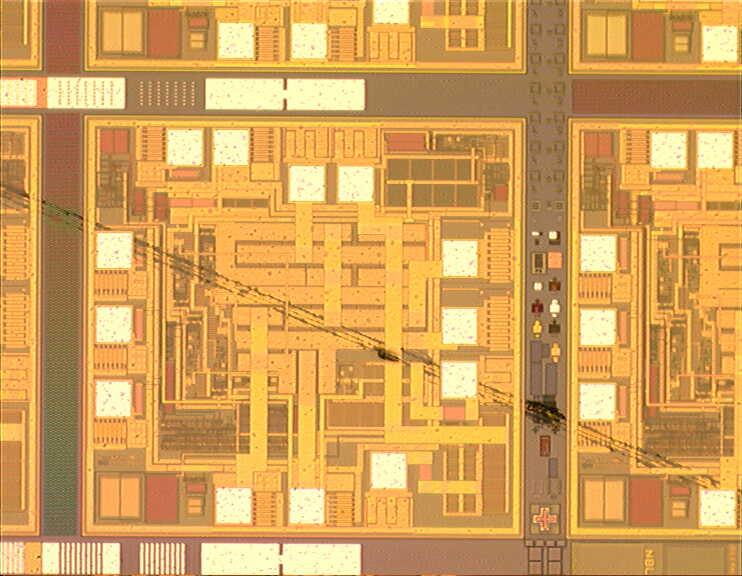SCRATCH: (1, 173, 742, 517)
